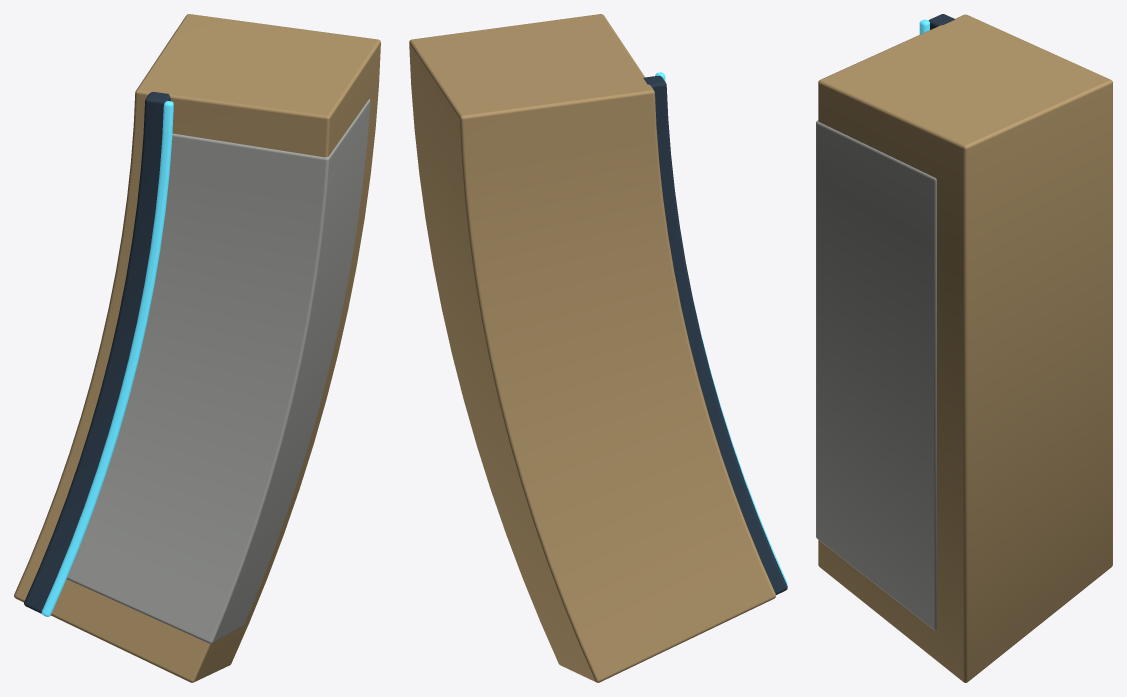
File: SM_HC2_BeatHalo_039.fbx
3 renders of one model, left to right at view 1: azimuth 30°, elevation 25°; view 2: azimuth 150°, elevation 25°; view 3: azimuth 270°, elevation 25°, orthographic. The views are drawn at different scales.
Visible parts, largest first — view 1: SM_HC2_BeatHalo_039; view 2: SM_HC2_BeatHalo_039; view 3: SM_HC2_BeatHalo_039.
Boxes of the visible parts, x1,y1,x2,y2 form: SM_HC2_BeatHalo_039: (14,14,380,682); SM_HC2_BeatHalo_039: (409,14,787,682); SM_HC2_BeatHalo_039: (816,14,1112,682).
Size of the model in its own units: 196 by 132 by 304.
